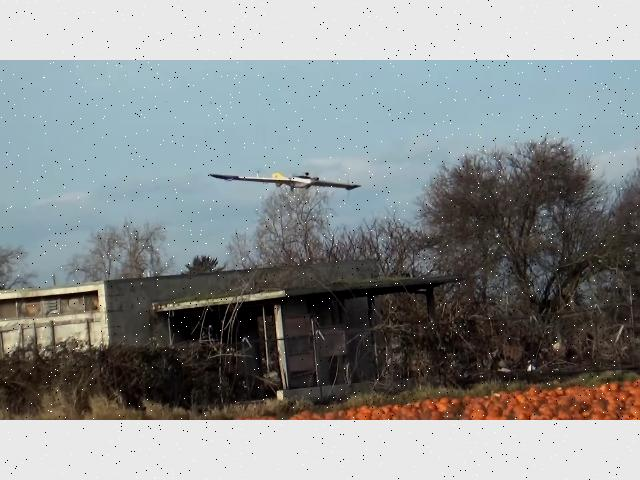Anti-Drone: (210, 170, 360, 190)
